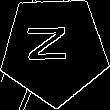N_E: (29, 29, 80, 71)
